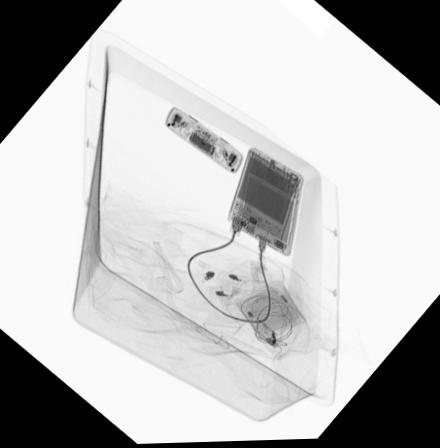Powerbank: (224, 151, 300, 258)
